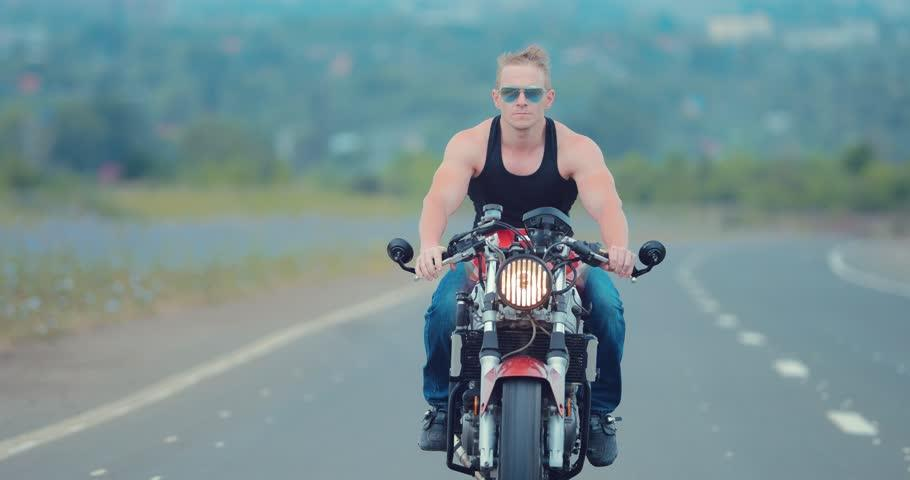nohelmet: (490, 50, 557, 135)
